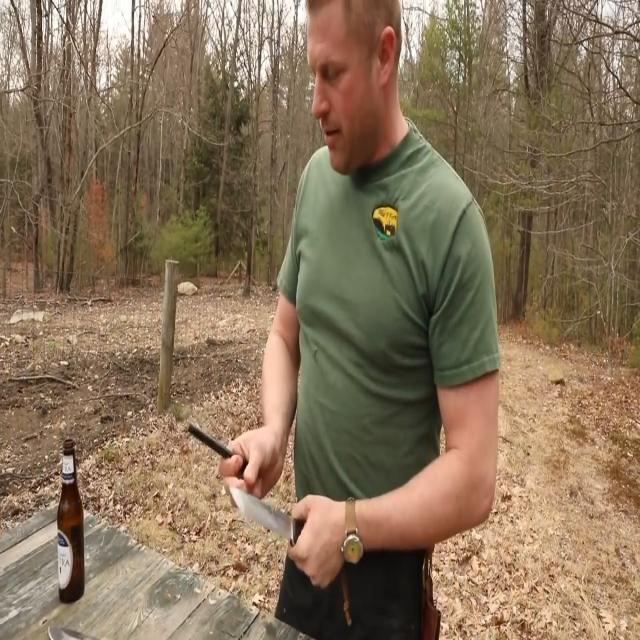knife: (226, 481, 299, 556)
